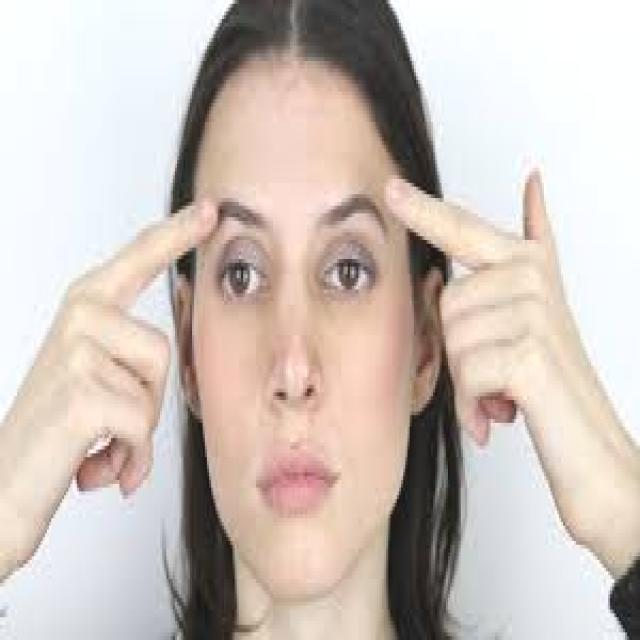normal_face: (185, 41, 425, 610)
